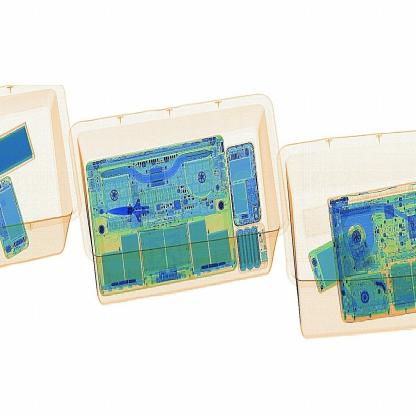gun: (106, 194, 170, 229)
